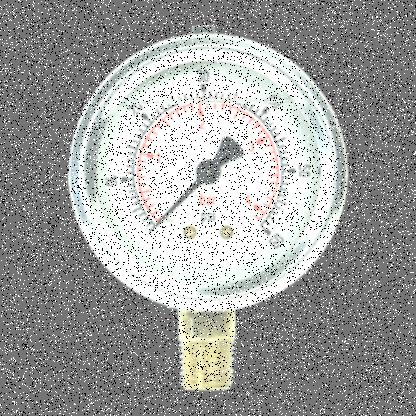needle: (149, 177, 203, 233)
